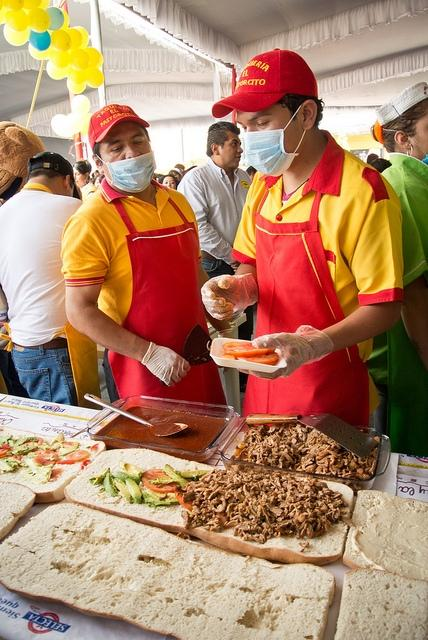tomato: (141, 469, 180, 493), (223, 342, 275, 358), (236, 352, 278, 364), (175, 488, 193, 512), (33, 450, 58, 466), (66, 450, 89, 462), (20, 436, 44, 446), (50, 468, 64, 480), (7, 454, 22, 460), (53, 460, 75, 464), (90, 443, 98, 452), (0, 448, 8, 456)
